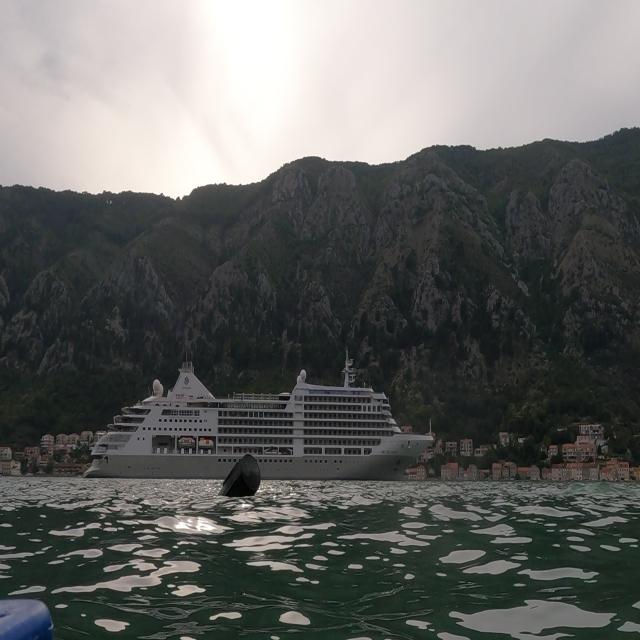boat: (82, 344, 436, 486)
buoy: (215, 444, 266, 508)
